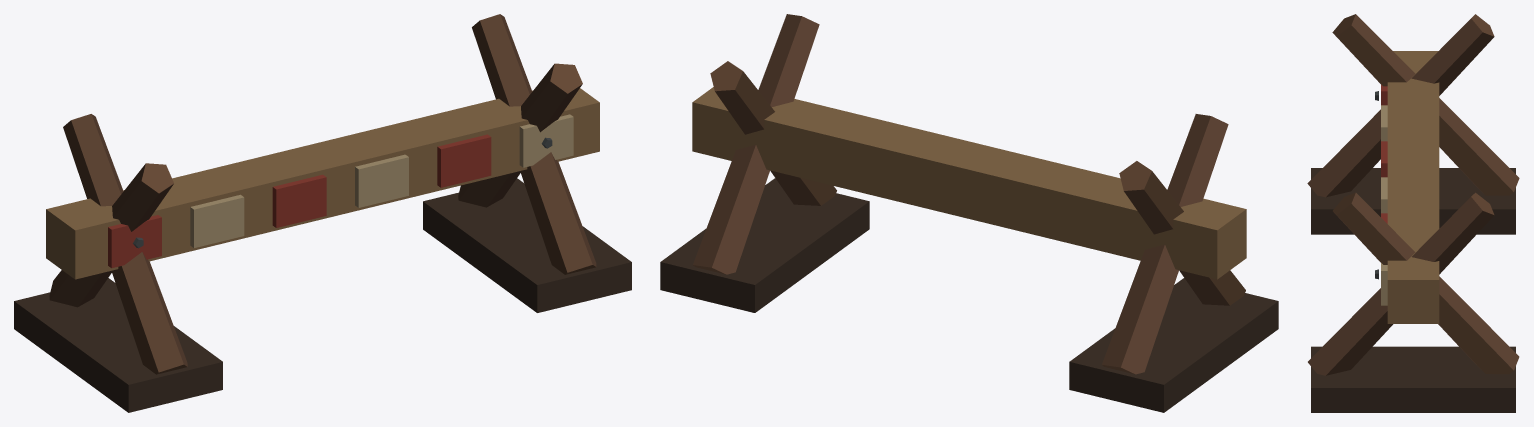
The model's file is checkpoint-barrier.glb.
3 views of the same model, side by side, from view 1: azimuth 30°, elevation 25°; view 2: azimuth 150°, elevation 25°; view 3: azimuth 270°, elevation 25° (orthographic). The views are drawn at different scales.
Visible parts, largest first — view 1: Checkpoint timber barrier; view 2: Checkpoint timber barrier; view 3: Checkpoint timber barrier.
Boxes of the visible parts, bbox=[...] form: Checkpoint timber barrier: bbox=[14, 14, 631, 412]; Checkpoint timber barrier: bbox=[660, 14, 1278, 412]; Checkpoint timber barrier: bbox=[1307, 14, 1519, 412].
Size of the model in its own units: 1.72 by 0.6925 by 0.6732.
